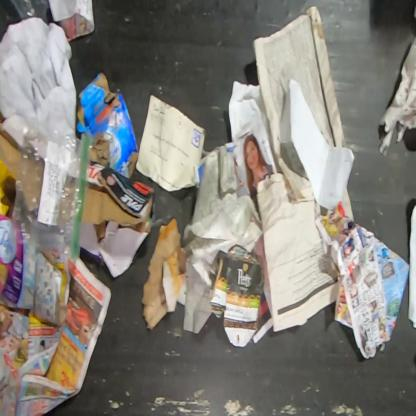cardboard: (81, 160, 155, 278), (0, 214, 71, 326), (77, 73, 139, 177), (210, 244, 264, 347), (0, 124, 21, 180)
soft_plastic: (8, 115, 93, 262), (10, 0, 51, 26)
